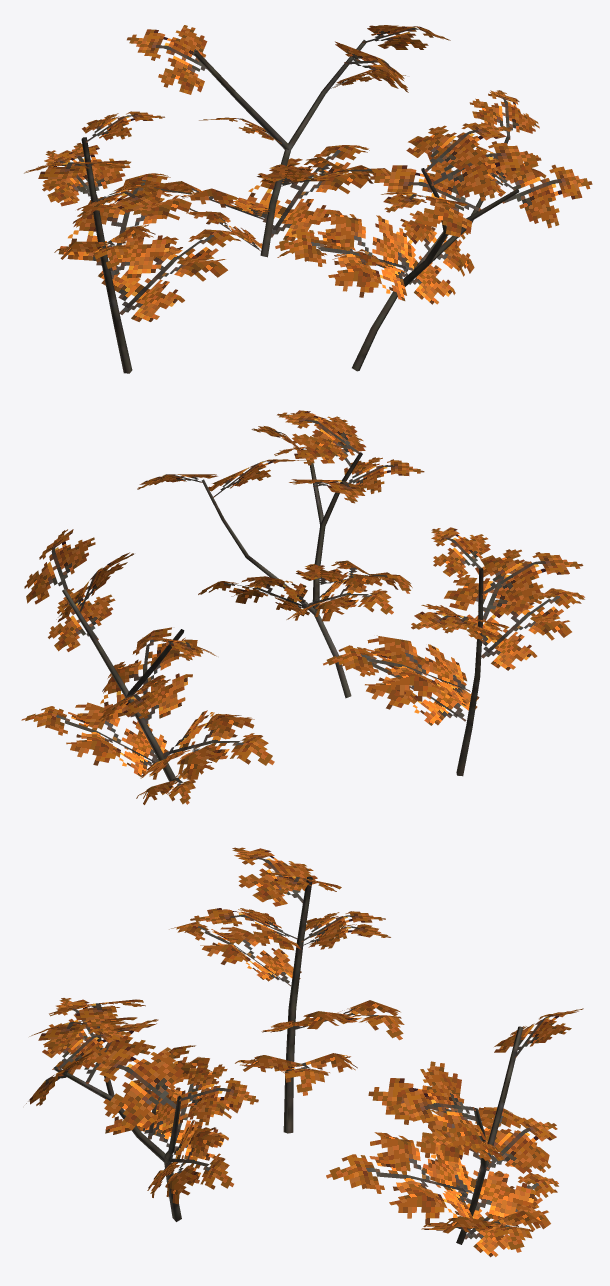
File: Bush2-1.fbx
3 views of the same model, one above another, from view 1: azimuth 30°, elevation 25°; view 2: azimuth 150°, elevation 25°; view 3: azimuth 270°, elevation 25° (orthographic). The views are drawn at different scales.
Parts seen in each view (by area): view 1: Bush2-1_LOD0; view 2: Bush2-1_LOD0; view 3: Bush2-1_LOD0.
Part boxes in pixels (x1=…): Bush2-1_LOD0: x1=24, y1=25, x2=592, y2=373; Bush2-1_LOD0: x1=21, y1=410, x2=584, y2=804; Bush2-1_LOD0: x1=26, y1=847, x2=583, y2=1257.
Size of what is drawn, in the model's own units: 1.2 by 1.14 by 0.5927.
